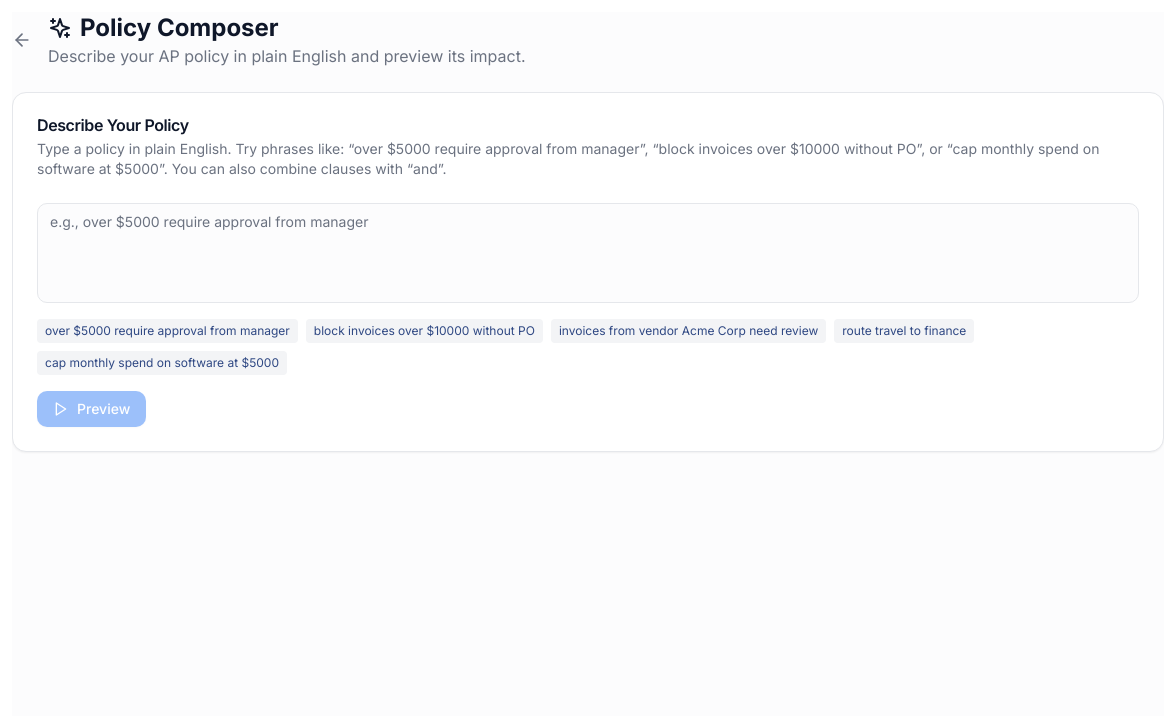
Test: PolicyComposerPage › renders unparseable segments panel when present
Type "over $5000 require approval from manager, and frobnicate the widgets" into the text box with test id "policy-text-input". click: (588, 253)
box: [37,203,1139,303]
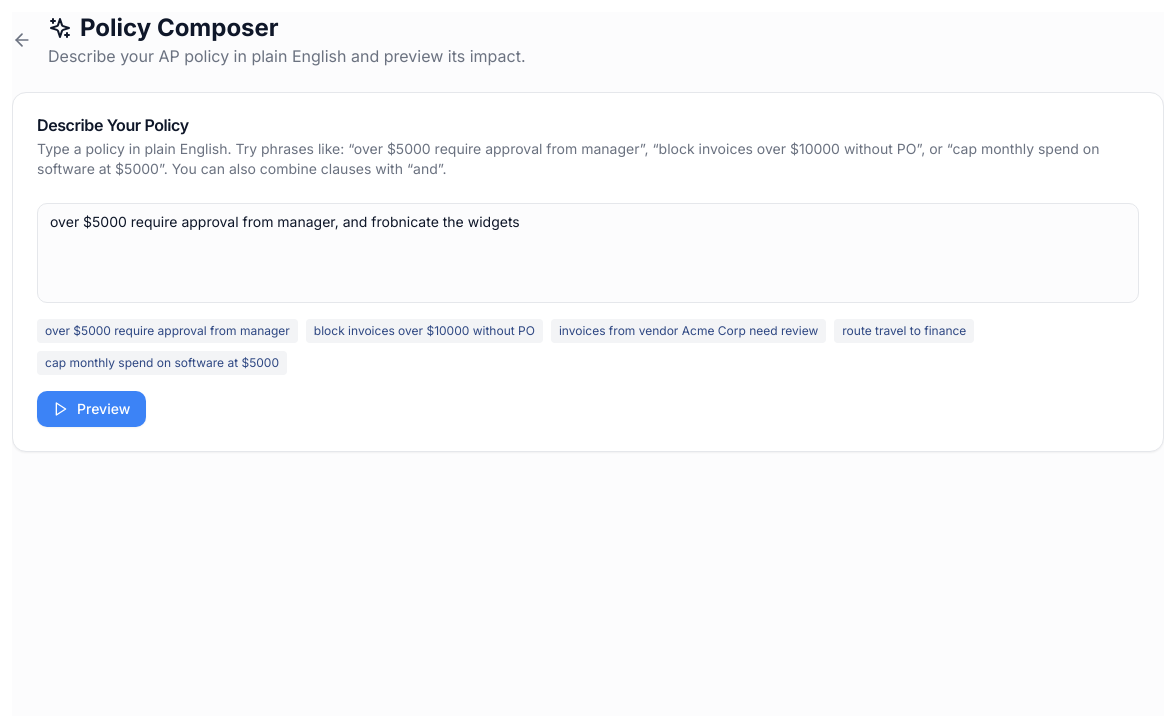
Click the button with test id "preview-btn". click: click(92, 409)
box: [37,391,146,427]
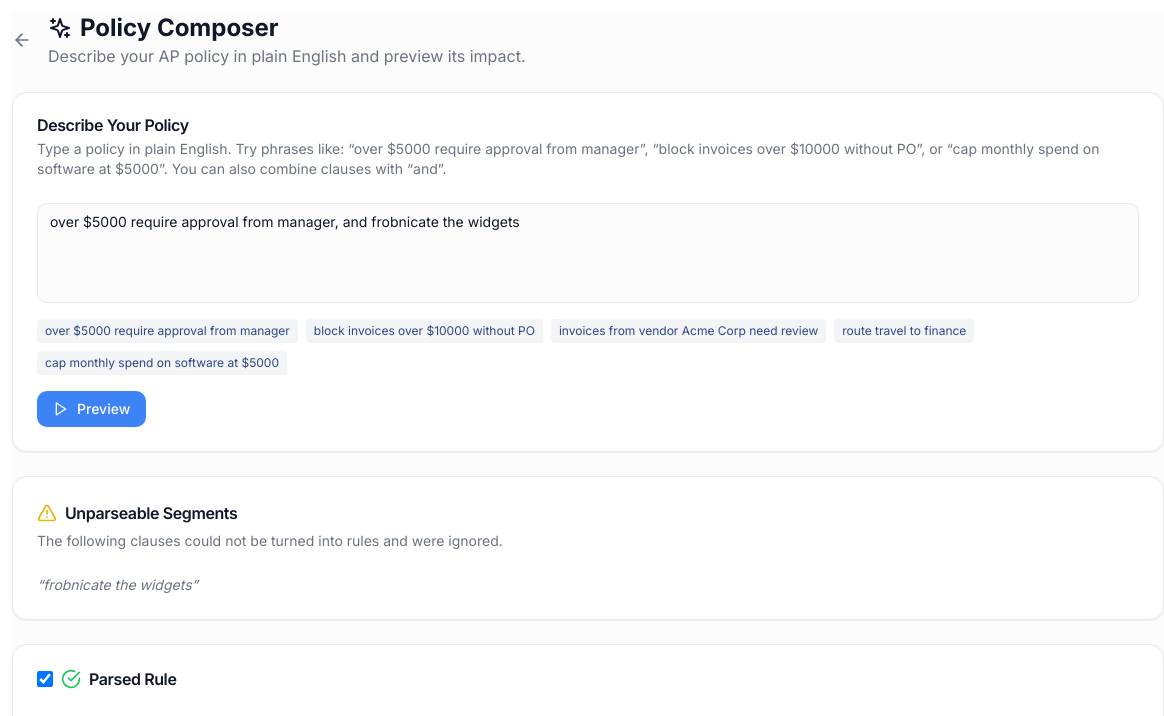
Result: the element with test id "unparseable-segments-card" is shown at [12,476,1163,620]
Result: the list with test id "unparseable-segments-list" shows "frobnicate the widgets" at [43,576,192,593]
